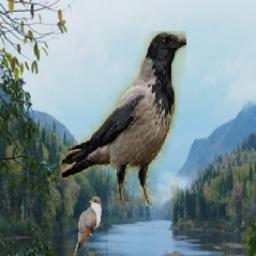Crow: (60, 32, 187, 207)
Cuckoo: (67, 196, 103, 256)
